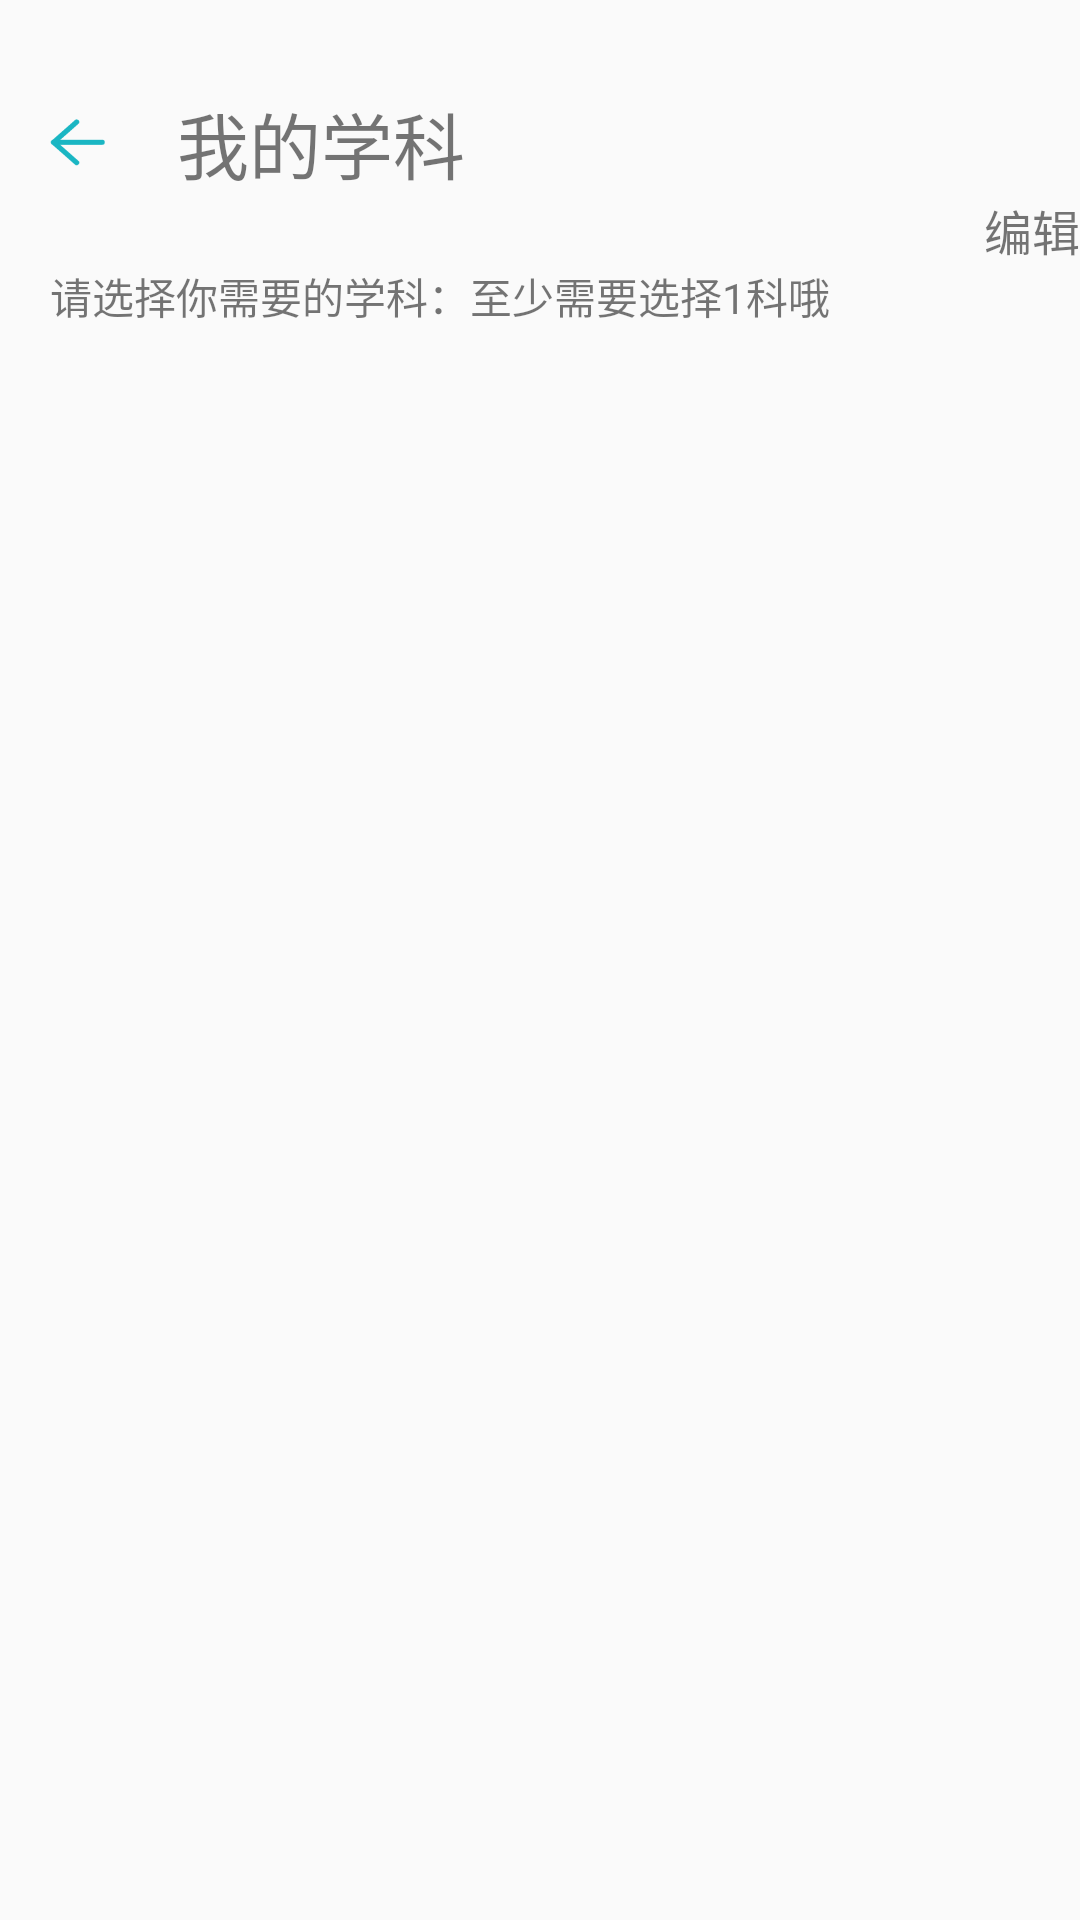

Locate icon controls on the screen. Image size 1080 × 1920, boxes as rect(x1, y1, x2, y2).
backbotton: rect(50, 119, 105, 166)
